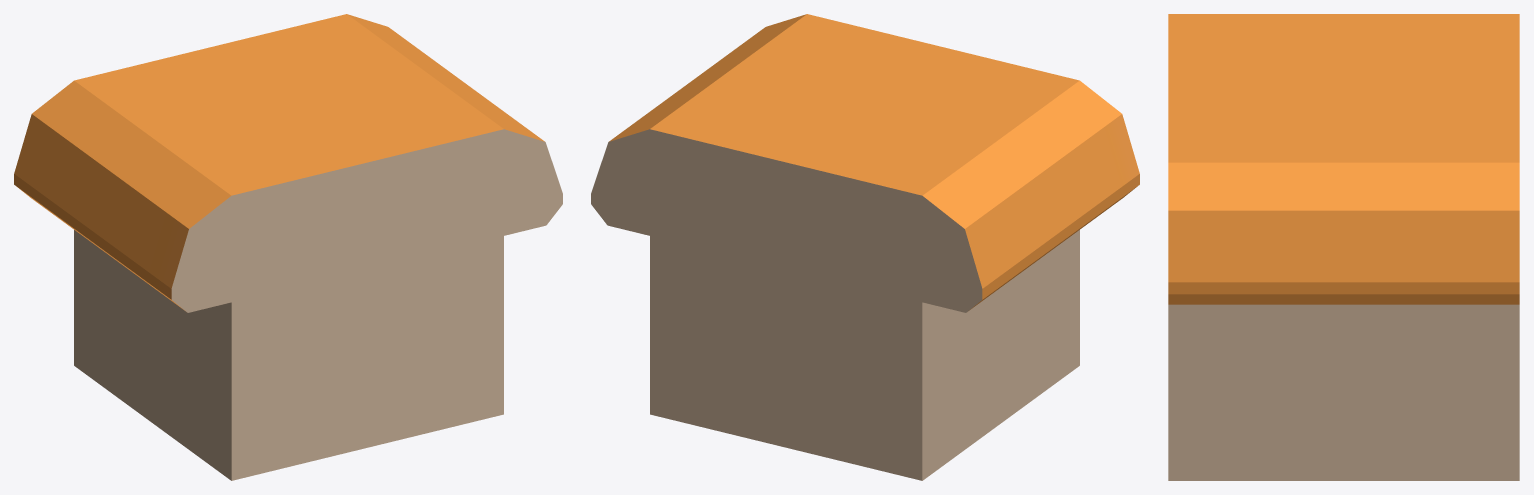
File: braed.fbx
3 views of the same model, side by side, from view 1: azimuth 30°, elevation 25°; view 2: azimuth 150°, elevation 25°; view 3: azimuth 270°, elevation 25° (orthographic). The views are drawn at different scales.
Parts seen in each view (by area): view 1: Cube, Cube.001; view 2: Cube, Cube.001; view 3: Cube.001, Cube.
Boxes of the visible parts, x1,y1,x2,y2 form: Cube: (74,129,562,480); Cube.001: (14,14,544,310); Cube: (591,129,1079,480); Cube.001: (609,14,1139,310); Cube.001: (1168,14,1519,304); Cube: (1168,304,1519,480).
Size of the model in its own units: 87.75 by 61.13 by 61.13.
